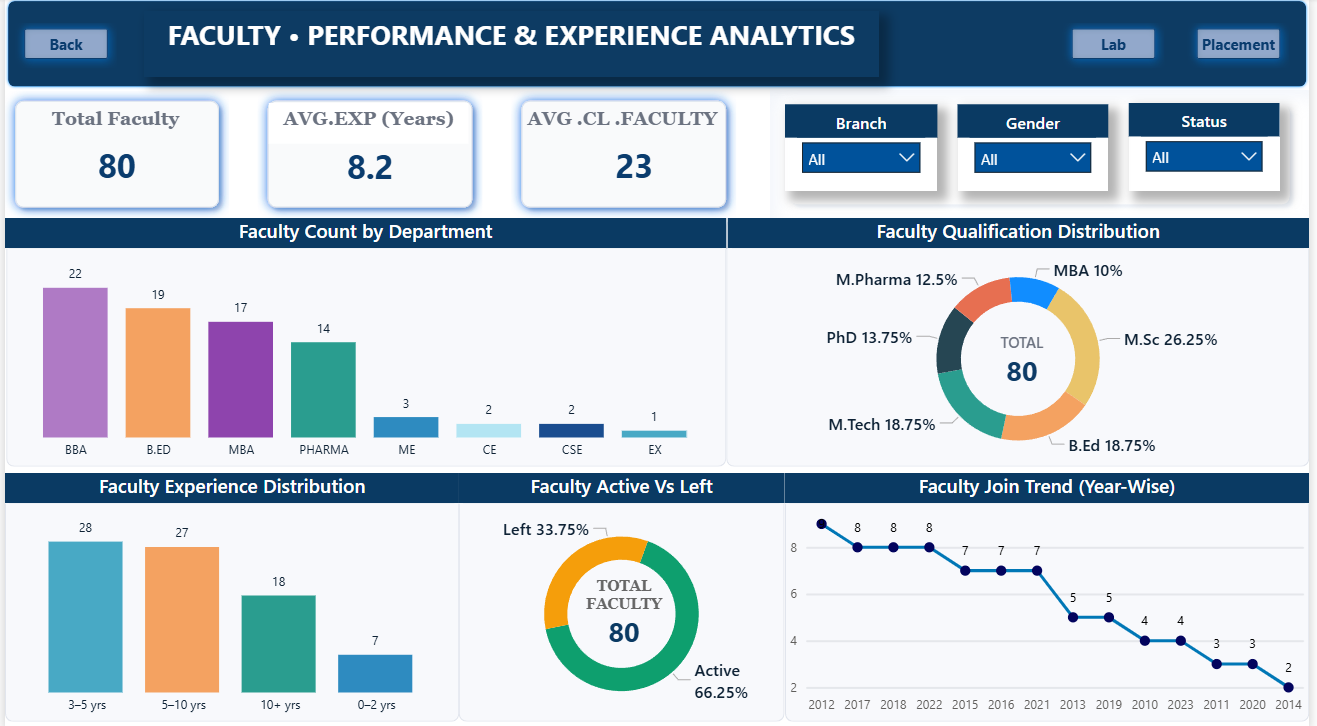

The dashboard page shown, as its layout file describes it:
{"tool":"powerbi","page":{"name":"Faculty","canvas":[1280,720],"ordinal":2},"visuals":[{"type":"shape","box":[0,0,1280.3,90],"z":0},{"type":"textbox","box":[135.8,12.3,721.8,65.9],"z":1000},{"type":"actionButton","box":[1160.9,20.6,100.2,48],"z":2000},{"type":"actionButton","box":[1038.1,20.6,100.2,48],"z":3000},{"type":"actionButton","box":[9.6,20.6,100.2,48],"z":5000},{"type":"shape","box":[750.6,90.6,529.7,124.9],"z":6000},{"type":"shape","box":[446,466.6,319.7,244.3],"z":7000},{"type":"textbox","box":[540.7,562.6,133.1,86.4],"z":8000},{"type":"donutChart","title":"Faculty Active Vs Left","fields":{"Category":["faculty_clean.Status"],"Y":["faculty_clean.faculty total"]},"box":[446,466.6,319.7,244.3],"z":9000},{"type":"shape","box":[708.1,215.4,572.2,244.3],"z":10000},{"type":"textbox","box":[940,322.5,116.6,74.1],"z":11000},{"type":"donutChart","title":"Faculty Qualification Distribution","fields":{"Category":["faculty_clean.Qualification"],"Y":["faculty_clean.faculty total"]},"box":[709.4,215.4,570.8,244.3],"z":12000},{"type":"shape","box":[0,90.6,220,125],"z":13000},{"type":"shape","box":[247.9,90.7,220.9,124.9],"z":14000},{"type":"shape","box":[496.7,90.7,220.9,124.9],"z":15000},{"type":"shape","box":[0,466.6,446,244.3],"z":16000},{"type":"shape","box":[1.4,215.4,706.7,244.3],"z":17000},{"type":"shape","box":[765.7,466.6,514.6,244.3],"z":18000},{"type":"card","fields":{"Values":["faculty_clean.faculty total"]},"box":[50.8,142.7,119.4,45.3],"z":19000},{"type":"textbox","box":[28.8,102.9,160.5,39.8],"z":20000},{"type":"textbox","box":[259.3,102.9,196.2,39.8],"z":21000},{"type":"card","fields":{"Values":["All Students.Avg Experience"]},"box":[292.3,144.1,133.1,45.3],"z":22000},{"type":"textbox","box":[503.6,102.9,205.8,41.2],"z":23000},{"type":"card","fields":{"Values":["All Students.Avg Classes per Faculty"]},"box":[559.9,142.7,116.6,45.3],"z":24000},{"type":"clusteredColumnChart","title":"Faculty Count by Department","fields":{"Category":["faculty_clean.Branch"],"Y":["faculty_clean.faculty total"]},"box":[0,215.4,708.1,244.3],"z":25000},{"type":"clusteredColumnChart","title":"Faculty Experience Distribution","fields":{"Category":["faculty_clean.Experience_Bucket"],"Y":["faculty_clean.faculty total"]},"box":[0,466.6,446,244.3],"z":26000},{"type":"lineChart","title":"Faculty Join Trend (Year-Wise)","fields":{"Category":["faculty_clean.Join_Year"],"Y":["faculty_clean.faculty total"]},"box":[765.7,466.6,514.6,244.3],"z":27000},{"type":"slicer","title":"Branch","fields":{"Values":["faculty_clean.Branch"]},"box":[765.7,104.3,149.6,85.1],"z":28000},{"type":"slicer","title":"Gender","fields":{"Values":["faculty_clean.Gender"]},"box":[935.2,104.3,148.2,85.1],"z":29000},{"type":"slicer","title":"Status","fields":{"Values":["faculty_clean.Status"]},"box":[1103.3,102.9,148.2,86.4],"z":30000}]}

Visuals, with their boxes in screenshot pixels (x1, y1, x2, y2), scaled from the page's 1280x720 canvas onto the 1317x726 screenshot:
shape: <box>0,0,1316,91</box>
textbox: <box>140,12,882,79</box>
actionButton: <box>1194,21,1298,69</box>
actionButton: <box>1068,21,1171,69</box>
actionButton: <box>10,21,113,69</box>
shape: <box>772,91,1316,217</box>
shape: <box>459,470,788,717</box>
textbox: <box>556,567,693,654</box>
"Faculty Active Vs Left" donutChart: <box>459,470,788,717</box>
shape: <box>729,217,1316,464</box>
textbox: <box>967,325,1087,400</box>
"Faculty Qualification Distribution" donutChart: <box>730,217,1316,464</box>
shape: <box>0,91,226,217</box>
shape: <box>255,91,482,217</box>
shape: <box>511,91,738,217</box>
shape: <box>0,470,459,717</box>
shape: <box>1,217,729,464</box>
shape: <box>788,470,1316,717</box>
card - faculty_clean.faculty total: <box>52,144,175,190</box>
textbox: <box>30,104,195,144</box>
textbox: <box>267,104,469,144</box>
card - All Students.Avg Experience: <box>301,145,438,191</box>
textbox: <box>518,104,730,145</box>
card - All Students.Avg Classes per Faculty: <box>576,144,696,190</box>
"Faculty Count by Department" clusteredColumnChart: <box>0,217,729,464</box>
"Faculty Experience Distribution" clusteredColumnChart: <box>0,470,459,717</box>
"Faculty Join Trend (Year-Wise)" lineChart: <box>788,470,1316,717</box>
"Branch" slicer: <box>788,105,942,191</box>
"Gender" slicer: <box>962,105,1115,191</box>
"Status" slicer: <box>1135,104,1288,191</box>
